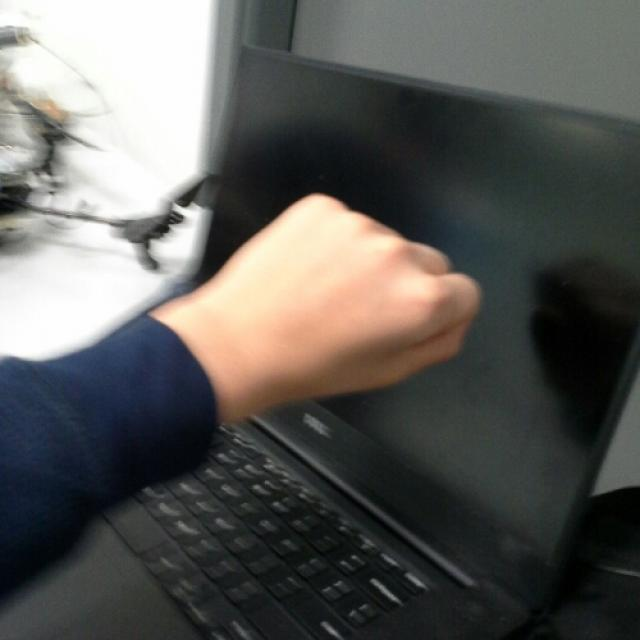rock: (229, 192, 478, 401)
